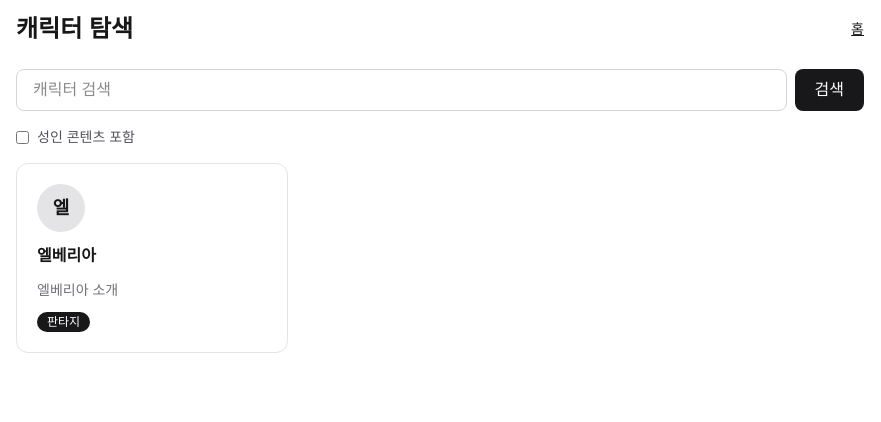
it: DiscoverPage (#24) › 카테고리 칩 클릭 시 해당 category 필터로 재조회한다
This screenshot has width=881, height=422.
Step 1. Click the button "판타지" → (64, 322), box top-left (37, 312), bottom-right (90, 332)
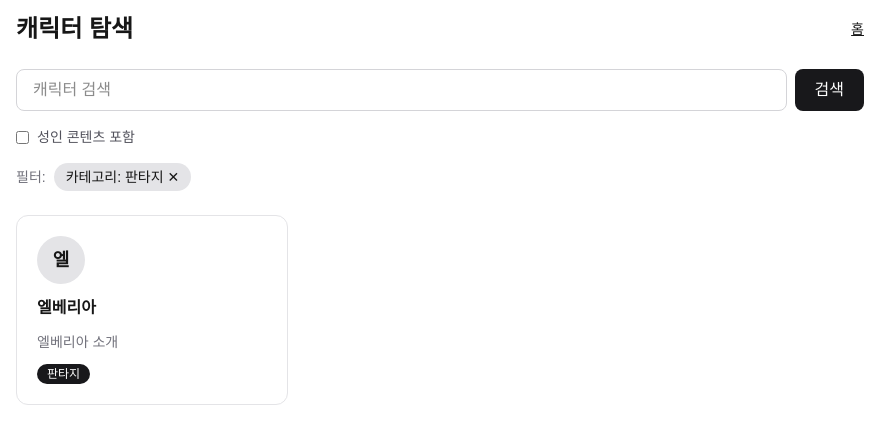
expect the button "카테고리: 판타지 ✕" is shown: met, box top-left (54, 163), bottom-right (191, 191)
